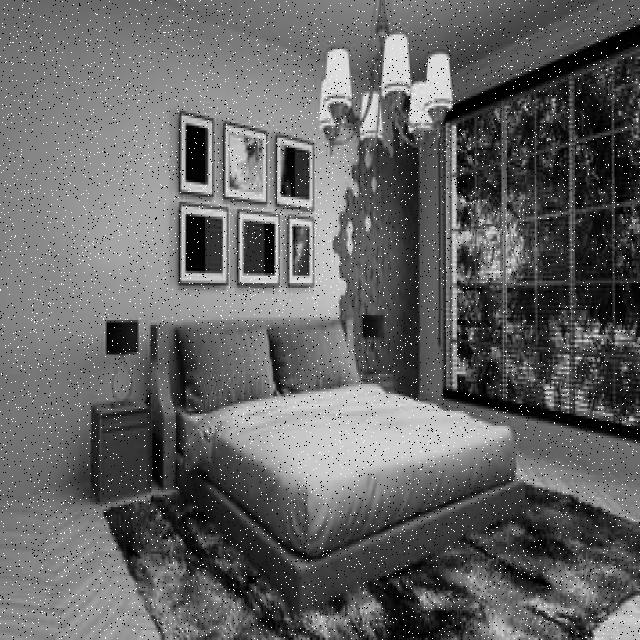bed: (153, 319, 523, 570)
